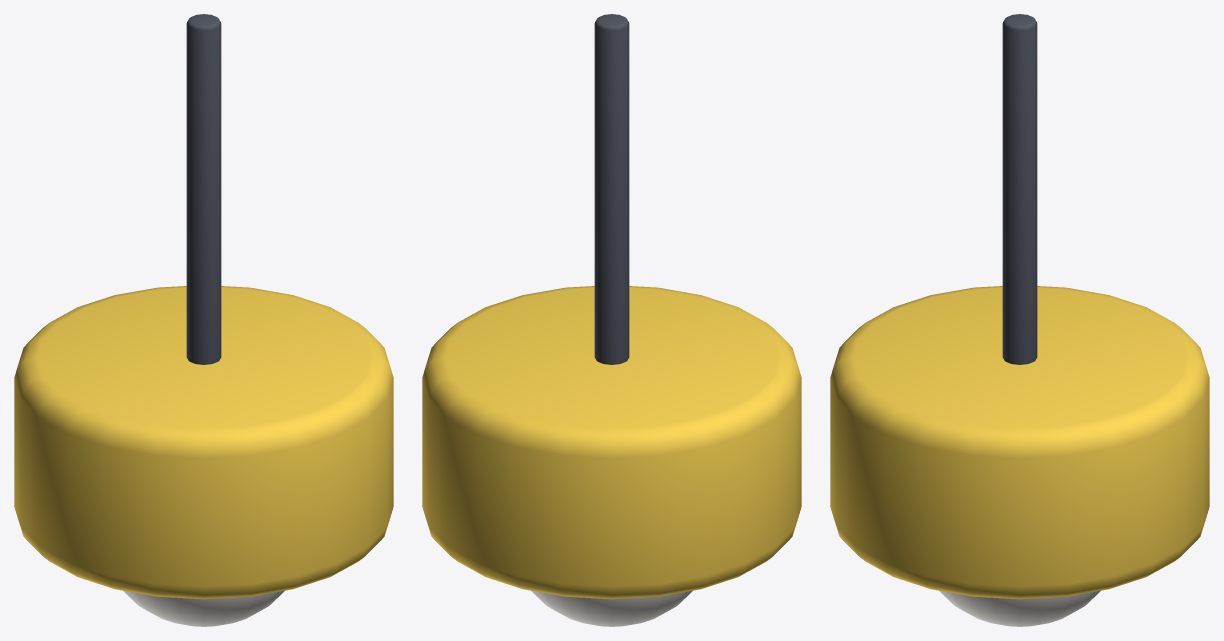
Rendered from ceiling-light-pendant.glb.
3 views of the same model, side by side, from view 1: azimuth 30°, elevation 25°; view 2: azimuth 150°, elevation 25°; view 3: azimuth 270°, elevation 25° (orthographic).
Visible parts, largest first — view 1: shade.001, cord, glow.001; view 2: shade.001, cord, glow.001; view 3: shade.001, cord, glow.001.
Boxes of the visible parts, bbox=[...] form: shade.001: bbox=[14, 286, 393, 599]; cord: bbox=[186, 14, 221, 364]; glow.001: bbox=[123, 590, 284, 626]; shade.001: bbox=[422, 286, 801, 599]; cord: bbox=[594, 14, 629, 364]; glow.001: bbox=[531, 590, 692, 626]; shade.001: bbox=[830, 286, 1209, 599]; cord: bbox=[1002, 14, 1037, 364]; glow.001: bbox=[939, 590, 1100, 626].
Bounding box in the file's own units: 0.55 × 0.954 × 0.55.
